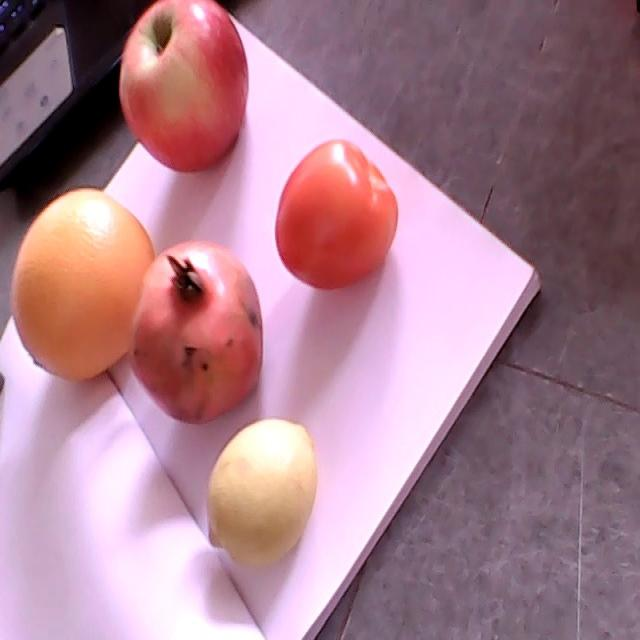apple: (120, 1, 250, 171)
lemon: (206, 419, 318, 568)
orange: (13, 189, 154, 379)
pomegranate: (129, 241, 262, 426)
tomato: (277, 140, 398, 292)
